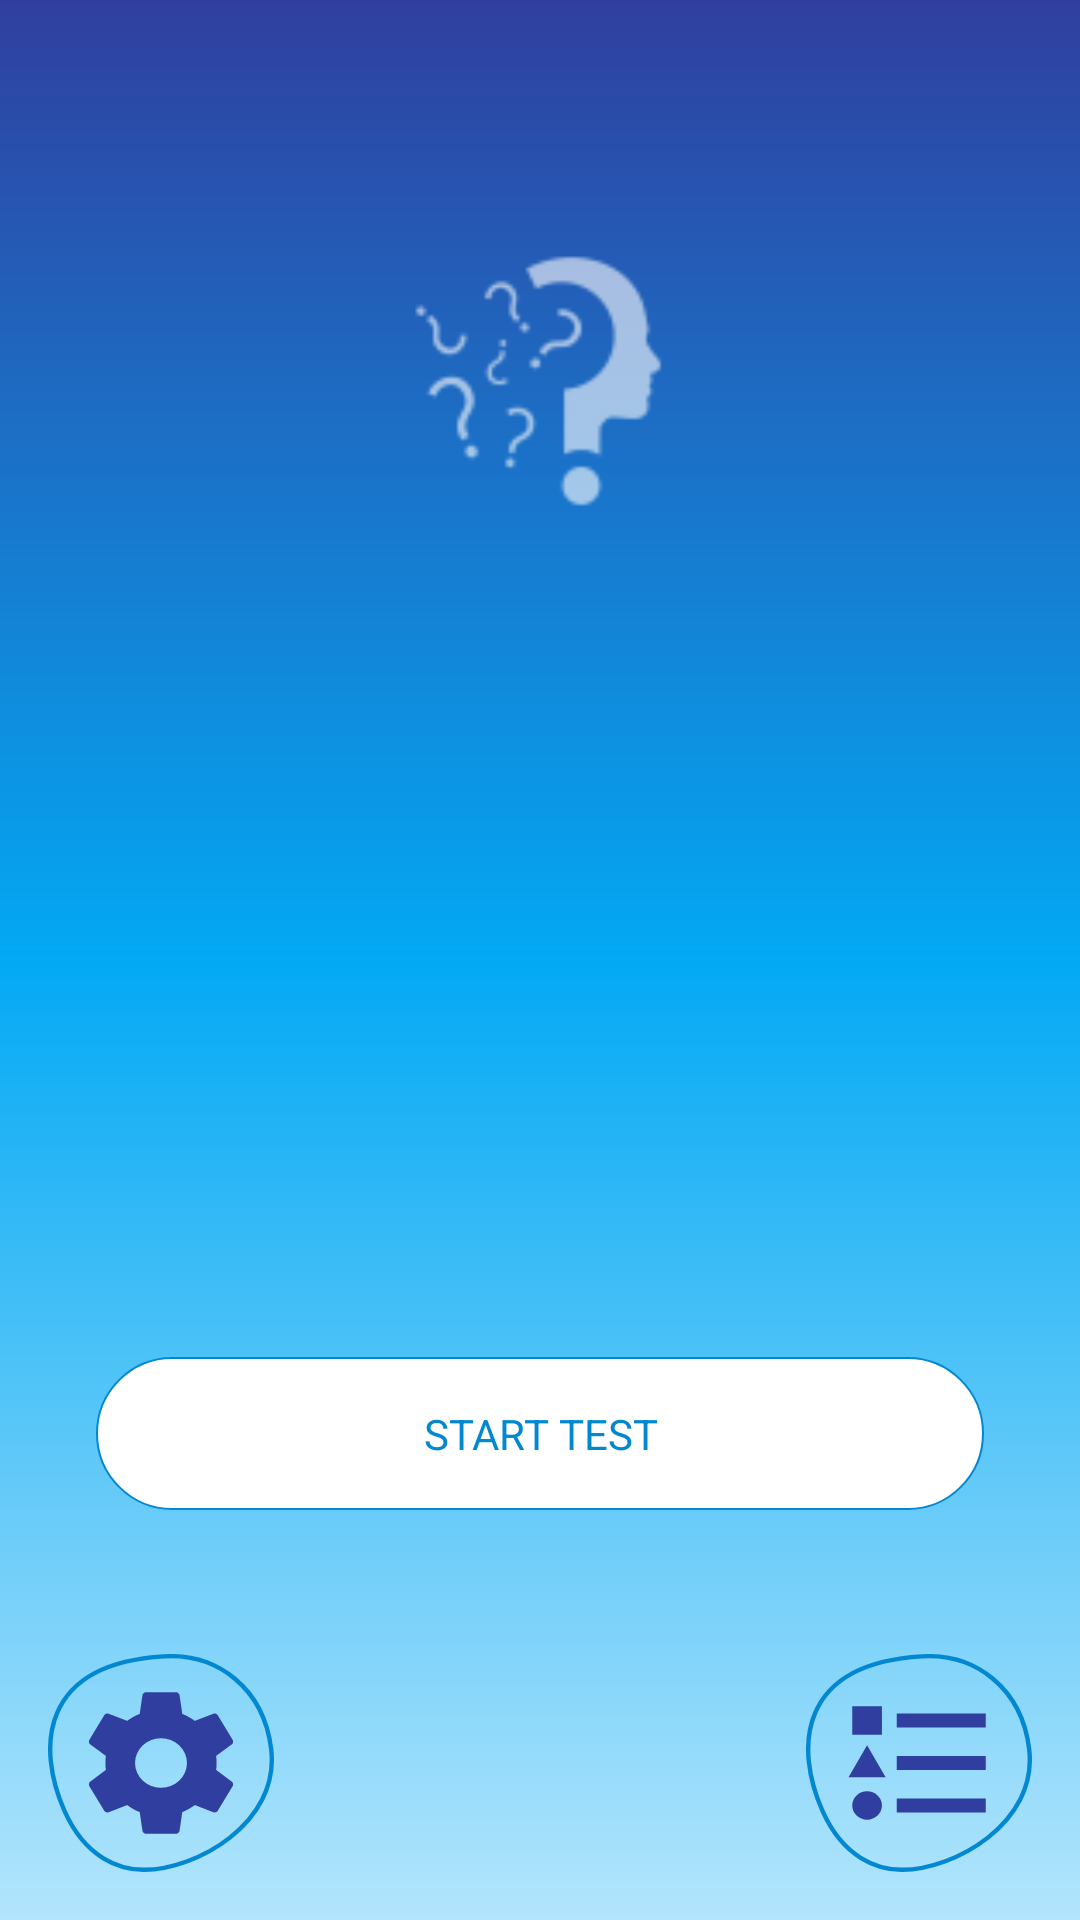

Icon click points for this 1080 x 1920 phone screenshot, format [x,y]:
list round: [919,1787]
settings round: [161,1787]
